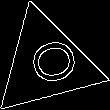O_W: (16, 36, 77, 91)
